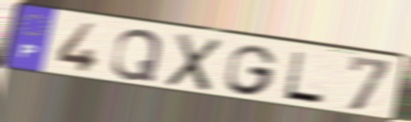4: (52, 20, 100, 76)
7: (347, 53, 393, 114)
G: (223, 43, 280, 97)
L: (281, 49, 328, 107)
Q: (109, 28, 165, 84)
X: (162, 31, 225, 94)
